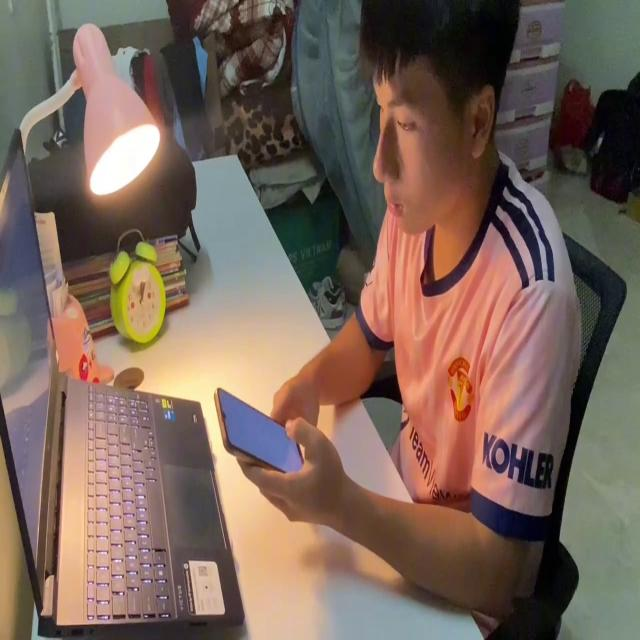laptop: (0, 123, 244, 633)
phone: (211, 376, 307, 484)
student: (236, 0, 579, 616)
